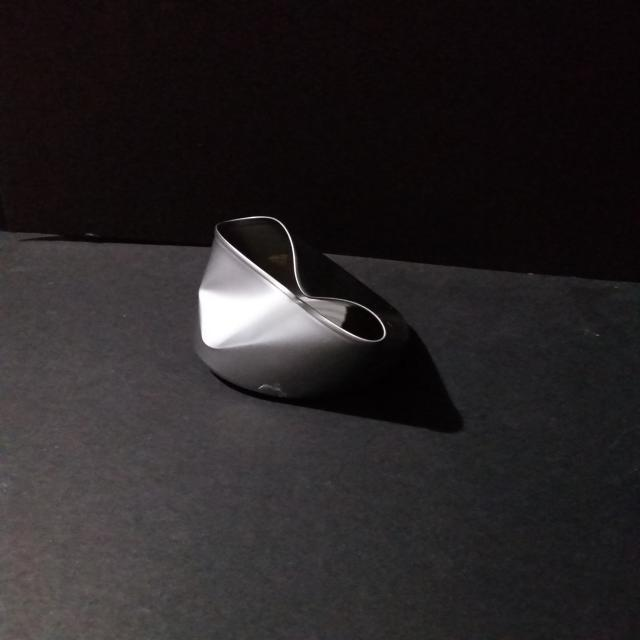metal: (193, 208, 392, 404)
